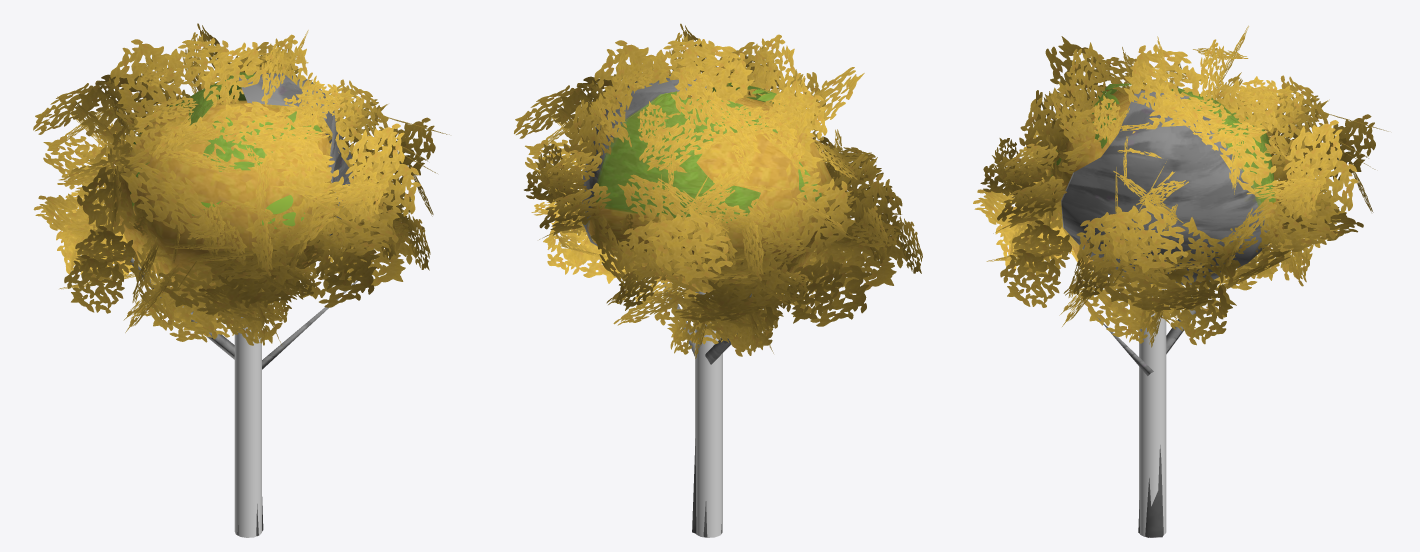
Rendered from Tree Yellow.fbx.
3 renders of one model, left to right at view 1: azimuth 30°, elevation 25°; view 2: azimuth 150°, elevation 25°; view 3: azimuth 270°, elevation 25°, orthographic. The views are drawn at different scales.
Parts seen in each view (by area): view 1: _11, Capsule, Sphere, _1; view 2: _11, Sphere, Capsule, _1; view 3: _11, Sphere, Capsule, _1.
Boxes of the visible parts, bbox=[...] form: _11: bbox=[33, 23, 449, 345]; Capsule: bbox=[234, 317, 261, 537]; Sphere: bbox=[130, 72, 354, 251]; _1: bbox=[111, 240, 357, 535]; _11: bbox=[514, 23, 922, 358]; Sphere: bbox=[582, 74, 821, 278]; Capsule: bbox=[695, 291, 722, 537]; _1: bbox=[663, 282, 751, 537]; _11: bbox=[973, 25, 1388, 347]; Sphere: bbox=[1051, 83, 1284, 284]; Capsule: bbox=[1139, 289, 1166, 537]; _1: bbox=[1097, 288, 1209, 537].
Bounding box in the file's own units: 331 × 391 × 313.
